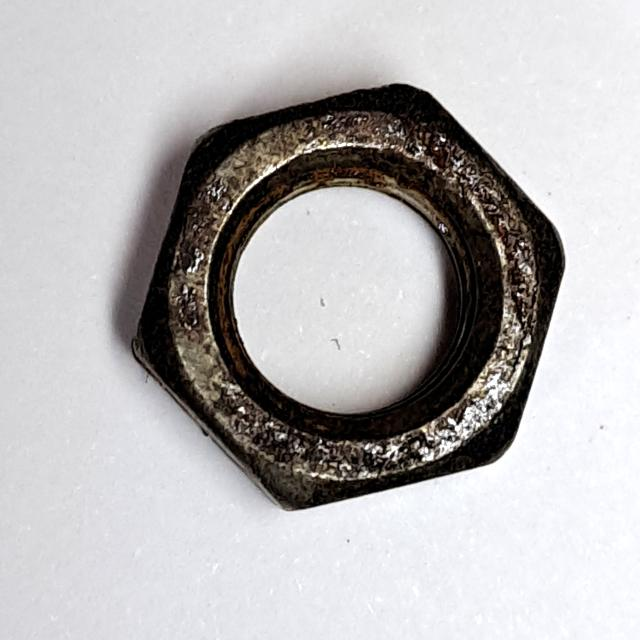Rust: (119, 72, 572, 517)
